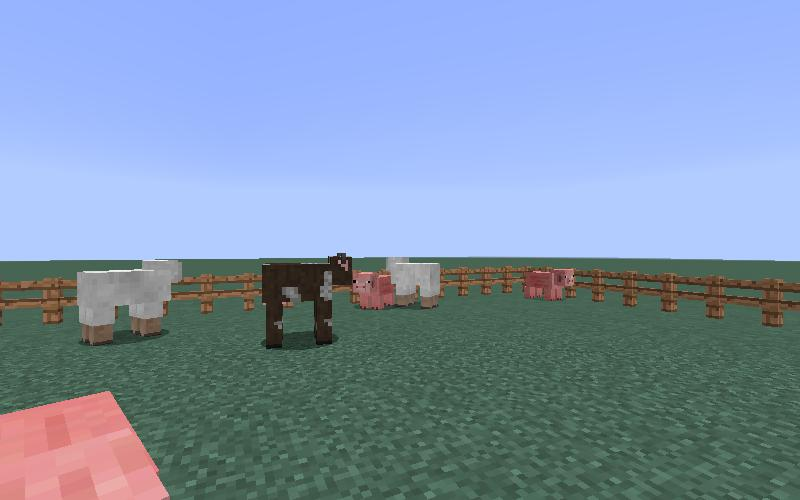cow: (258, 247, 358, 358)
pig: (520, 264, 577, 305), (350, 269, 395, 313)
sheep: (71, 253, 186, 355), (383, 252, 445, 315)
